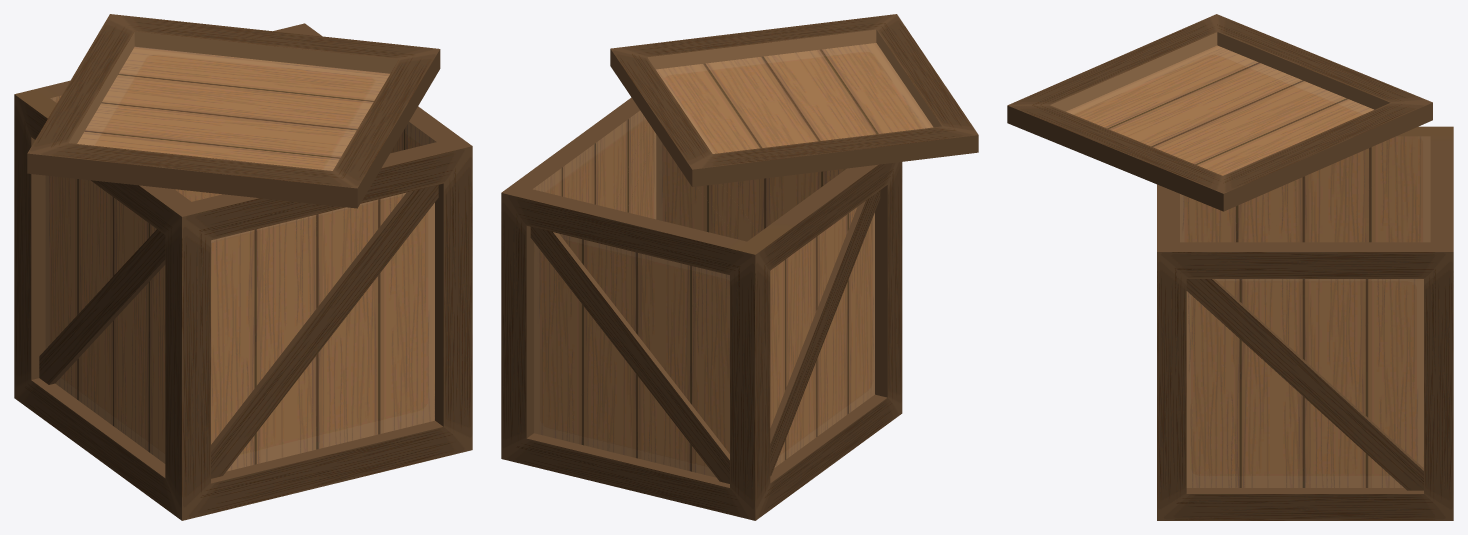
The model's file is Closed.fbx.
3 views of the same model, side by side, from view 1: azimuth 30°, elevation 25°; view 2: azimuth 150°, elevation 25°; view 3: azimuth 270°, elevation 25° (orthographic). The views are drawn at different scales.
Parts seen in each view (by area): view 1: Crate, Lid; view 2: Crate, Lid; view 3: Crate, Lid.
Boxes of the visible parts, <box> form: Crate: <box>14,23,472,520</box>; Lid: <box>27,14,440,208</box>; Crate: <box>501,97,902,520</box>; Lid: <box>610,14,978,186</box>; Crate: <box>1157,126,1453,520</box>; Lid: <box>1007,14,1432,211</box>.
Bounding box in the file's own units: 1.88 × 1.6 × 1.97.
1 material, 1 textured.
